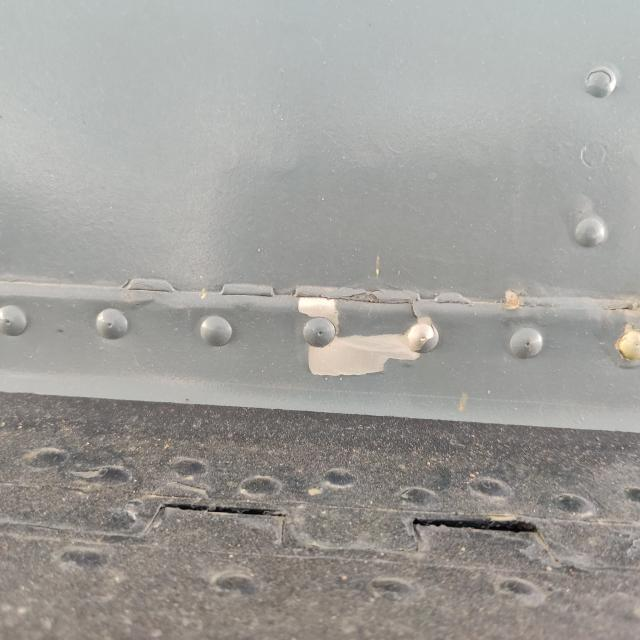paint-off: (290, 282, 440, 388)
